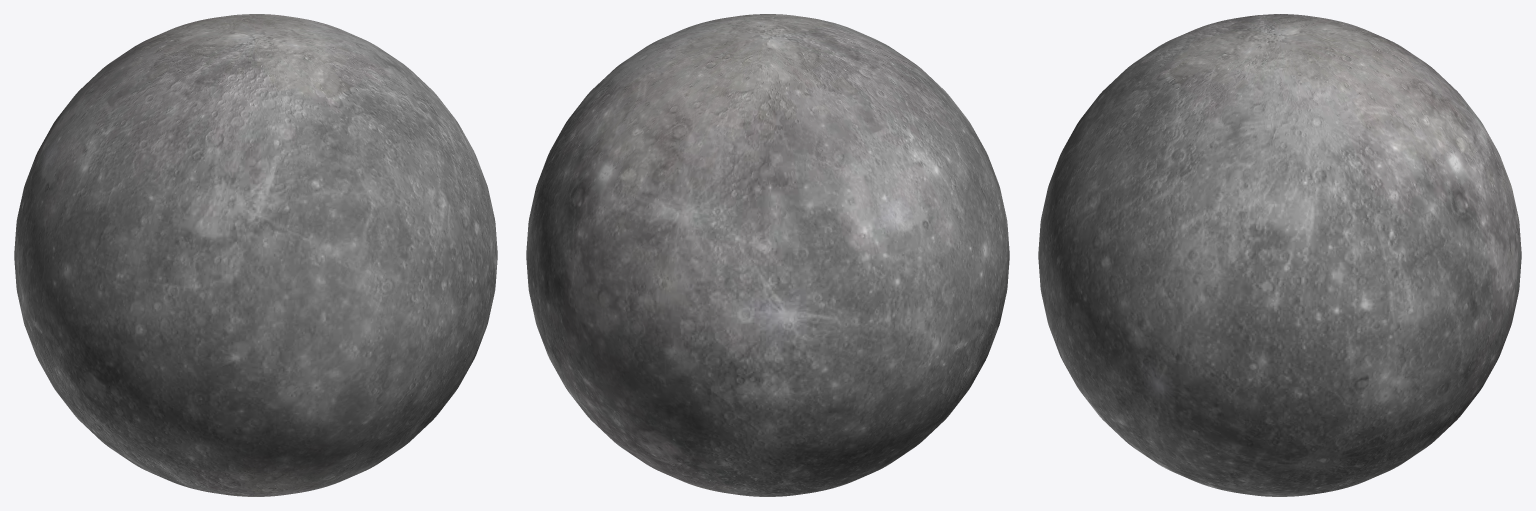
The model's file is mercury.glb.
3 views of the same model, side by side, from view 1: azimuth 30°, elevation 25°; view 2: azimuth 150°, elevation 25°; view 3: azimuth 270°, elevation 25° (orthographic).
Visible parts, largest first — view 1: Sphere_Material.002_0; view 2: Sphere_Material.002_0; view 3: Sphere_Material.002_0.
Boxes of the visible parts, bbox=[...] form: Sphere_Material.002_0: bbox=[14, 14, 497, 496]; Sphere_Material.002_0: bbox=[526, 14, 1009, 496]; Sphere_Material.002_0: bbox=[1038, 14, 1521, 496].
Size of the model in its own units: 200 by 200 by 200.
Materials: 1 (1 with a texture image).
